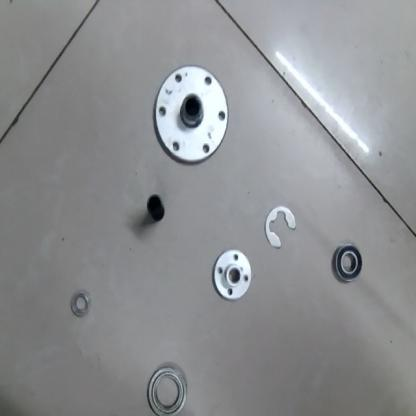FOD: (151, 67, 230, 168), (212, 249, 254, 305), (146, 363, 187, 415), (263, 204, 296, 250), (332, 241, 364, 285), (142, 192, 168, 224), (67, 290, 94, 317)
